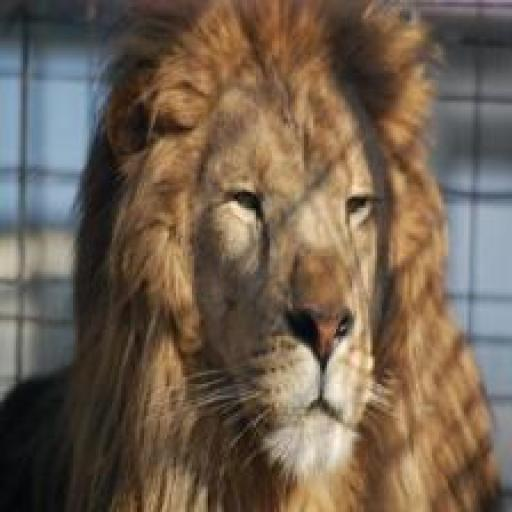lion: (60, 7, 489, 512)
